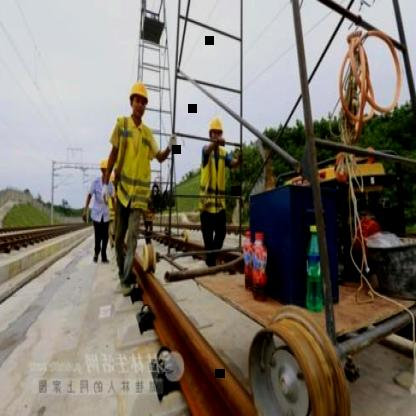helmet: (126, 80, 155, 107), (204, 115, 228, 136)
